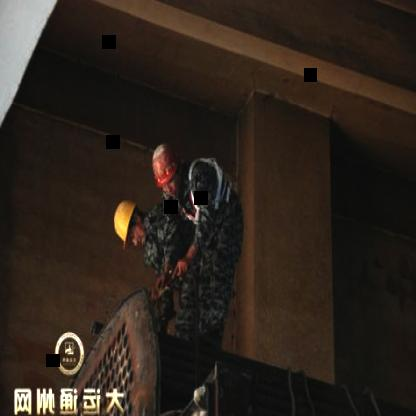helmet: (114, 198, 149, 256), (150, 141, 184, 197)
